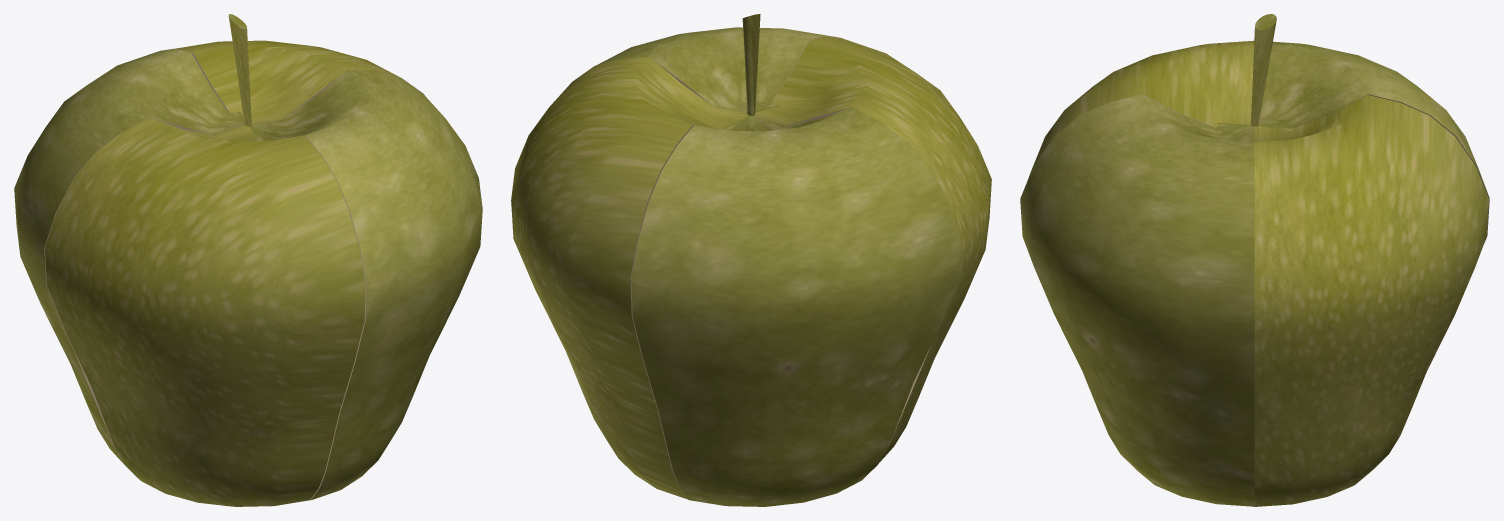
Rendered from GreenCutApple.fbx.
The picture shows the model from 3 angles, left to right: view 1: azimuth 30°, elevation 25°; view 2: azimuth 150°, elevation 25°; view 3: azimuth 270°, elevation 25°; orthographic projection. The views are drawn at different scales.
Visible parts, largest first — view 1: polySurface12, polySurface9, polySurface10, polySurface11; view 2: polySurface10, polySurface11, polySurface12, polySurface9; view 3: polySurface11, polySurface9, polySurface12, polySurface10.
Part boxes in pixels (left/top/right/bottom): polySurface12: left=45, top=118, right=365, bottom=506; polySurface9: left=250, top=70, right=482, bottom=500; polySurface10: left=14, top=48, right=245, bottom=480; polySurface11: left=176, top=14, right=424, bottom=126; polySurface10: left=631, top=107, right=960, bottom=506; polySurface11: left=511, top=14, right=760, bottom=499; polySurface12: left=754, top=36, right=991, bottom=463; polySurface9: left=597, top=27, right=841, bottom=116; polySurface11: left=1251, top=14, right=1488, bottom=506; polySurface9: left=1020, top=94, right=1254, bottom=506; polySurface12: left=1029, top=40, right=1254, bottom=175; polySurface10: left=1258, top=41, right=1489, bottom=242.
Size of the model in its own units: 1.9 by 1.97 by 1.89.
